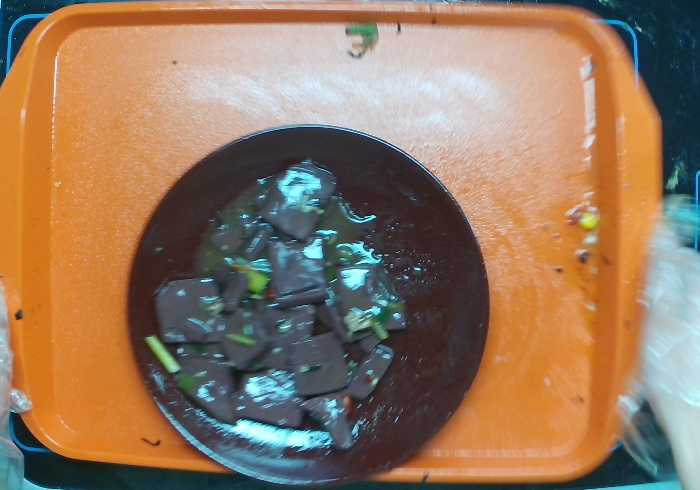HZYJPL-Ka_Fei_Yuan_Pan: (129, 115, 496, 490)
